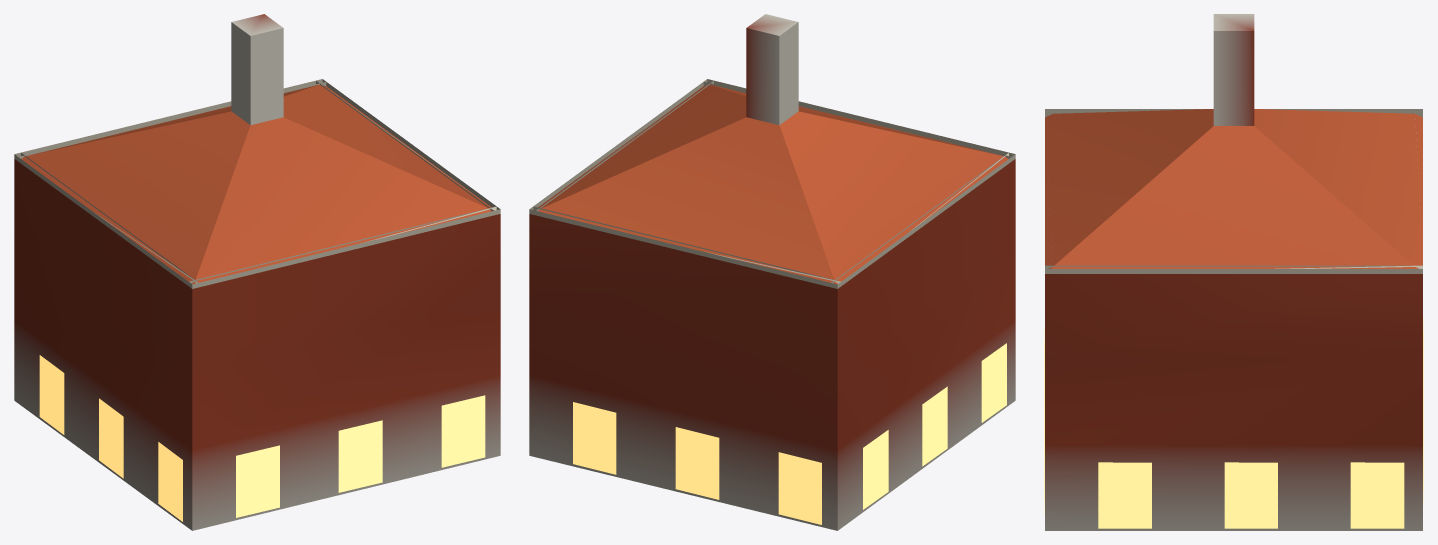
Rendered from manor_3.glb.
3 views of the same model, side by side, from view 1: azimuth 30°, elevation 25°; view 2: azimuth 150°, elevation 25°; view 3: azimuth 270°, elevation 25° (orthographic). The views are drawn at different scales.
Visible parts, largest first — view 1: manor_3__wall_0_xb, manor_3__wall_3_xb, manor_3_roof_front_xb, manor_3_roof_left_xb, manor_3__manor_3__storefront_0, manor_3_roof_right_xb, manor_3__chimney_xb, manor_3__manor_3__storefront_3, manor_3__cornice_0_xb, manor_3__cornice_2_xb, manor_3__cornice_3_xb, manor_3__cornice_1_xb (+2 smaller); view 2: manor_3__wall_2_xb, manor_3__wall_3_xb, manor_3_roof_back_xb, manor_3_roof_left_xb, manor_3__manor_3__storefront_2, manor_3_roof_right_xb, manor_3__chimney_xb, manor_3__manor_3__storefront_3, manor_3__cornice_2_xb, manor_3__cornice_0_xb, manor_3__cornice_3_xb, manor_3__cornice_1_xb (+3 smaller); view 3: manor_3__wall_1_xb, manor_3_roof_right_xb, manor_3_roof_front_xb, manor_3_roof_back_xb, manor_3__manor_3__storefront_1, manor_3__chimney_xb, manor_3__cornice_1_xb, manor_3__wall_0_xb, manor_3__cornice_3_xb, manor_3__wall_2_xb.
Part boxes in pixels (x1=…): manor_3__wall_0_xb: x1=190, y1=214, x2=500, y2=530; manor_3__wall_3_xb: x1=14, y1=159, x2=195, y2=530; manor_3_roof_front_xb: x1=194, y1=117, x2=491, y2=283; manor_3_roof_left_xb: x1=21, y1=111, x2=250, y2=284; manor_3__manor_3__storefront_0: x1=236, y1=395, x2=485, y2=517; manor_3_roof_right_xb: x1=283, y1=84, x2=494, y2=210; manor_3__chimney_xb: x1=231, y1=14, x2=283, y2=125; manor_3__manor_3__storefront_3: x1=39, y1=355, x2=182, y2=521; manor_3__cornice_0_xb: x1=188, y1=206, x2=500, y2=288; manor_3__cornice_2_xb: x1=14, y1=79, x2=326, y2=160; manor_3__cornice_3_xb: x1=14, y1=152, x2=198, y2=288; manor_3__cornice_1_xb: x1=316, y1=79, x2=500, y2=215; manor_3__wall_2_xb: x1=529, y1=214, x2=839, y2=530; manor_3__wall_3_xb: x1=834, y1=160, x2=1015, y2=530; manor_3_roof_back_xb: x1=538, y1=117, x2=835, y2=283; manor_3_roof_left_xb: x1=779, y1=111, x2=1008, y2=284; manor_3__manor_3__storefront_2: x1=573, y1=402, x2=821, y2=524; manor_3_roof_right_xb: x1=535, y1=84, x2=746, y2=210; manor_3__chimney_xb: x1=746, y1=14, x2=798, y2=125; manor_3__manor_3__storefront_3: x1=863, y1=343, x2=1006, y2=509; manor_3__cornice_2_xb: x1=529, y1=206, x2=840, y2=288; manor_3__cornice_0_xb: x1=703, y1=79, x2=1015, y2=158; manor_3__cornice_3_xb: x1=831, y1=153, x2=1015, y2=288; manor_3__cornice_1_xb: x1=529, y1=79, x2=713, y2=215; manor_3__wall_1_xb: x1=1045, y1=274, x2=1422, y2=530; manor_3_roof_right_xb: x1=1051, y1=126, x2=1416, y2=268; manor_3_roof_front_xb: x1=1045, y1=109, x2=1213, y2=268; manor_3_roof_back_xb: x1=1254, y1=109, x2=1422, y2=268; manor_3__manor_3__storefront_1: x1=1098, y1=462, x2=1404, y2=528; manor_3__chimney_xb: x1=1213, y1=14, x2=1254, y2=125; manor_3__cornice_1_xb: x1=1045, y1=265, x2=1422, y2=273; manor_3__wall_0_xb: x1=1045, y1=274, x2=1049, y2=530; manor_3__cornice_3_xb: x1=1045, y1=109, x2=1422, y2=117; manor_3__wall_2_xb: x1=1418, y1=274, x2=1422, y2=530.
Bounding box in the file's own units: 1.4 × 1.75 × 1.4.
